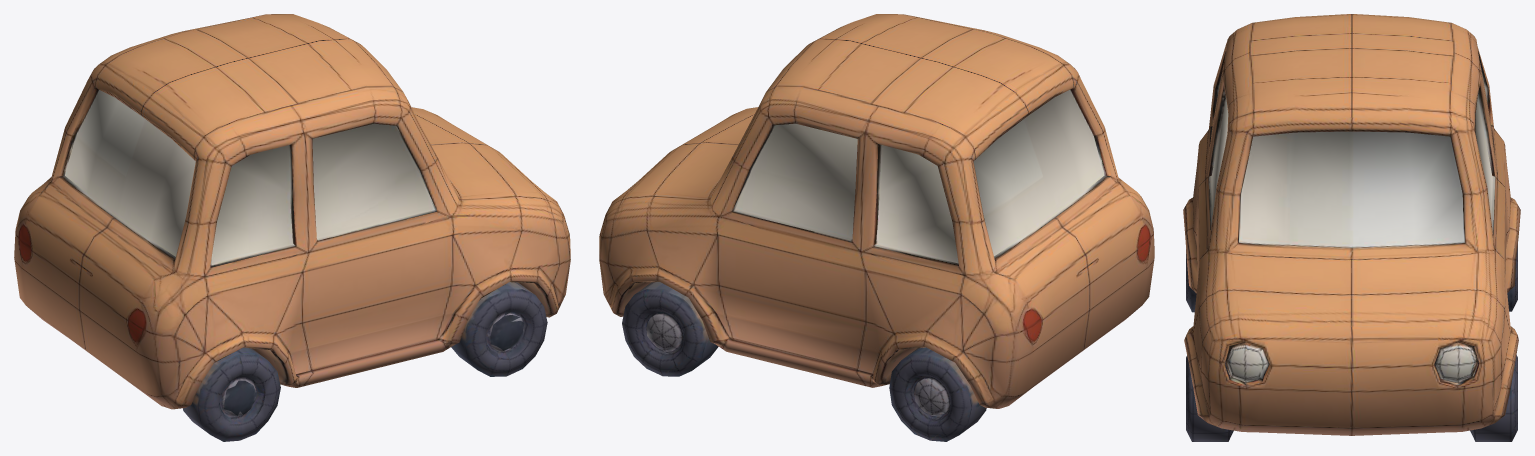
Rendered from tiny_village_car.glb.
3 views of the same model, side by side, from view 1: azimuth 30°, elevation 25°; view 2: azimuth 150°, elevation 25°; view 3: azimuth 270°, elevation 25° (orthographic).
Visible parts, largest first — view 1: tripo_node_8e5d99e4-b766-4fc1-968d-6751358634c6; view 2: tripo_node_8e5d99e4-b766-4fc1-968d-6751358634c6; view 3: tripo_node_8e5d99e4-b766-4fc1-968d-6751358634c6.
Part boxes in pixels (x1,y1,x2,y2): tripo_node_8e5d99e4-b766-4fc1-968d-6751358634c6: (14, 14, 570, 441); tripo_node_8e5d99e4-b766-4fc1-968d-6751358634c6: (599, 14, 1154, 441); tripo_node_8e5d99e4-b766-4fc1-968d-6751358634c6: (1183, 14, 1520, 441).
Bounding box in the file's own units: 0.998 × 0.6621 × 0.6699.
1 material, 1 textured.
